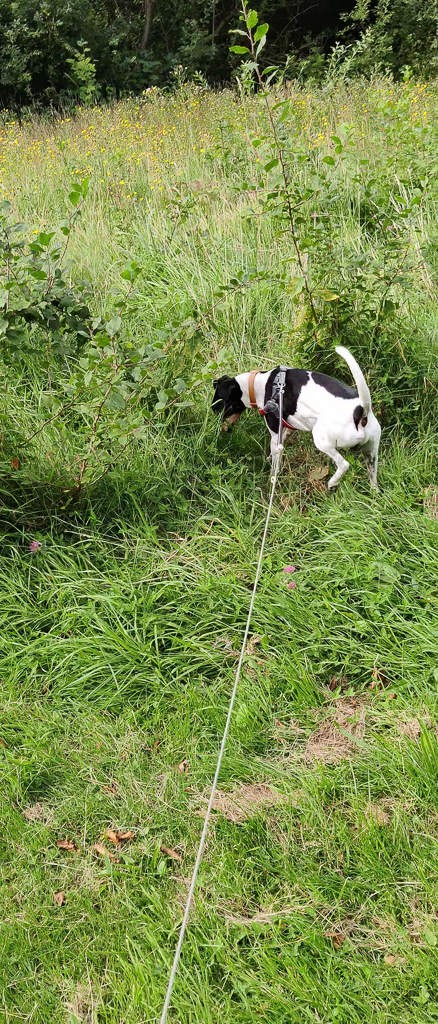Dog: (203, 331, 389, 516)
